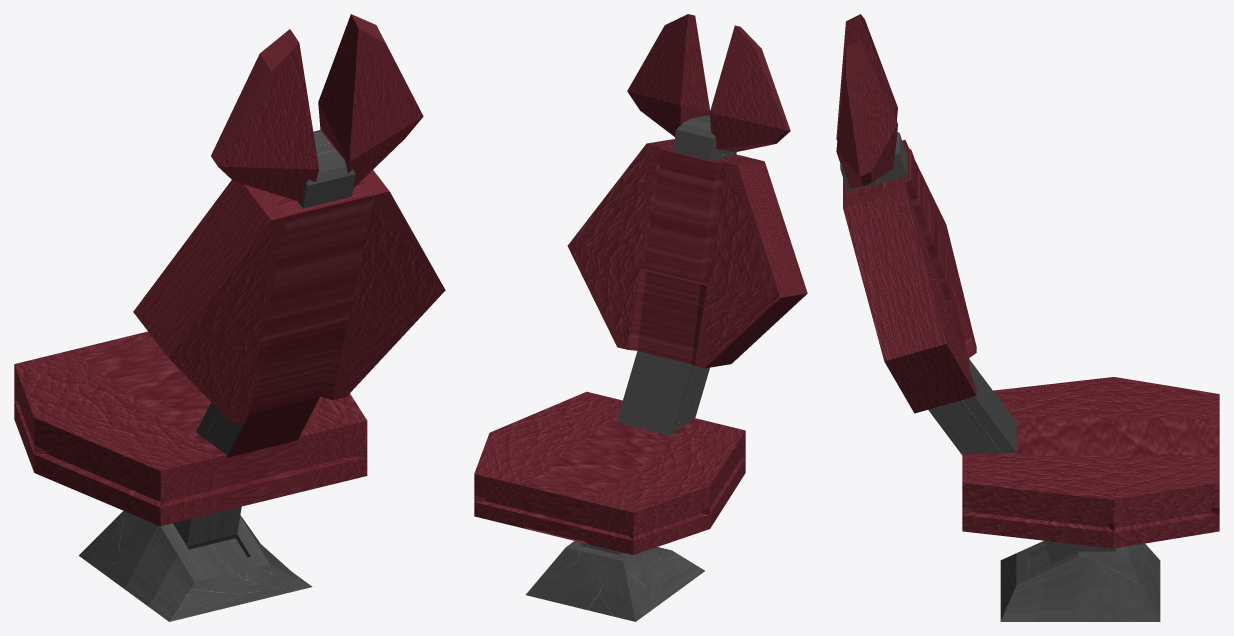
Rendered from Silla4Roja.fbx.
3 renders of one model, left to right at view 1: azimuth 30°, elevation 25°; view 2: azimuth 150°, elevation 25°; view 3: azimuth 270°, elevation 25°, orthographic. The views are drawn at different scales.
Visible parts, largest first — view 1: Cube.021; view 2: Cube.021; view 3: Cube.021.
Boxes of the visible parts, box(x1,y1,x2,y2) form: Cube.021: box(14, 14, 445, 621); Cube.021: box(474, 14, 807, 621); Cube.021: box(836, 14, 1219, 621).
Bounding box in the file's own units: 138 × 295 × 181.
2 materials, 2 textured.
